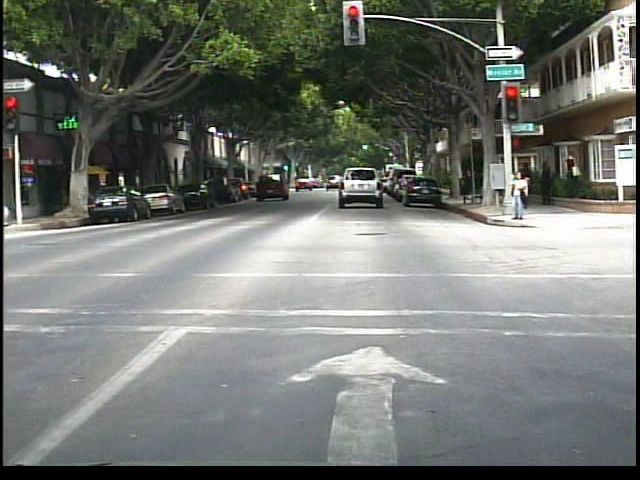person: (504, 168, 531, 223), (534, 158, 555, 212), (561, 149, 582, 199), (517, 157, 535, 205)
